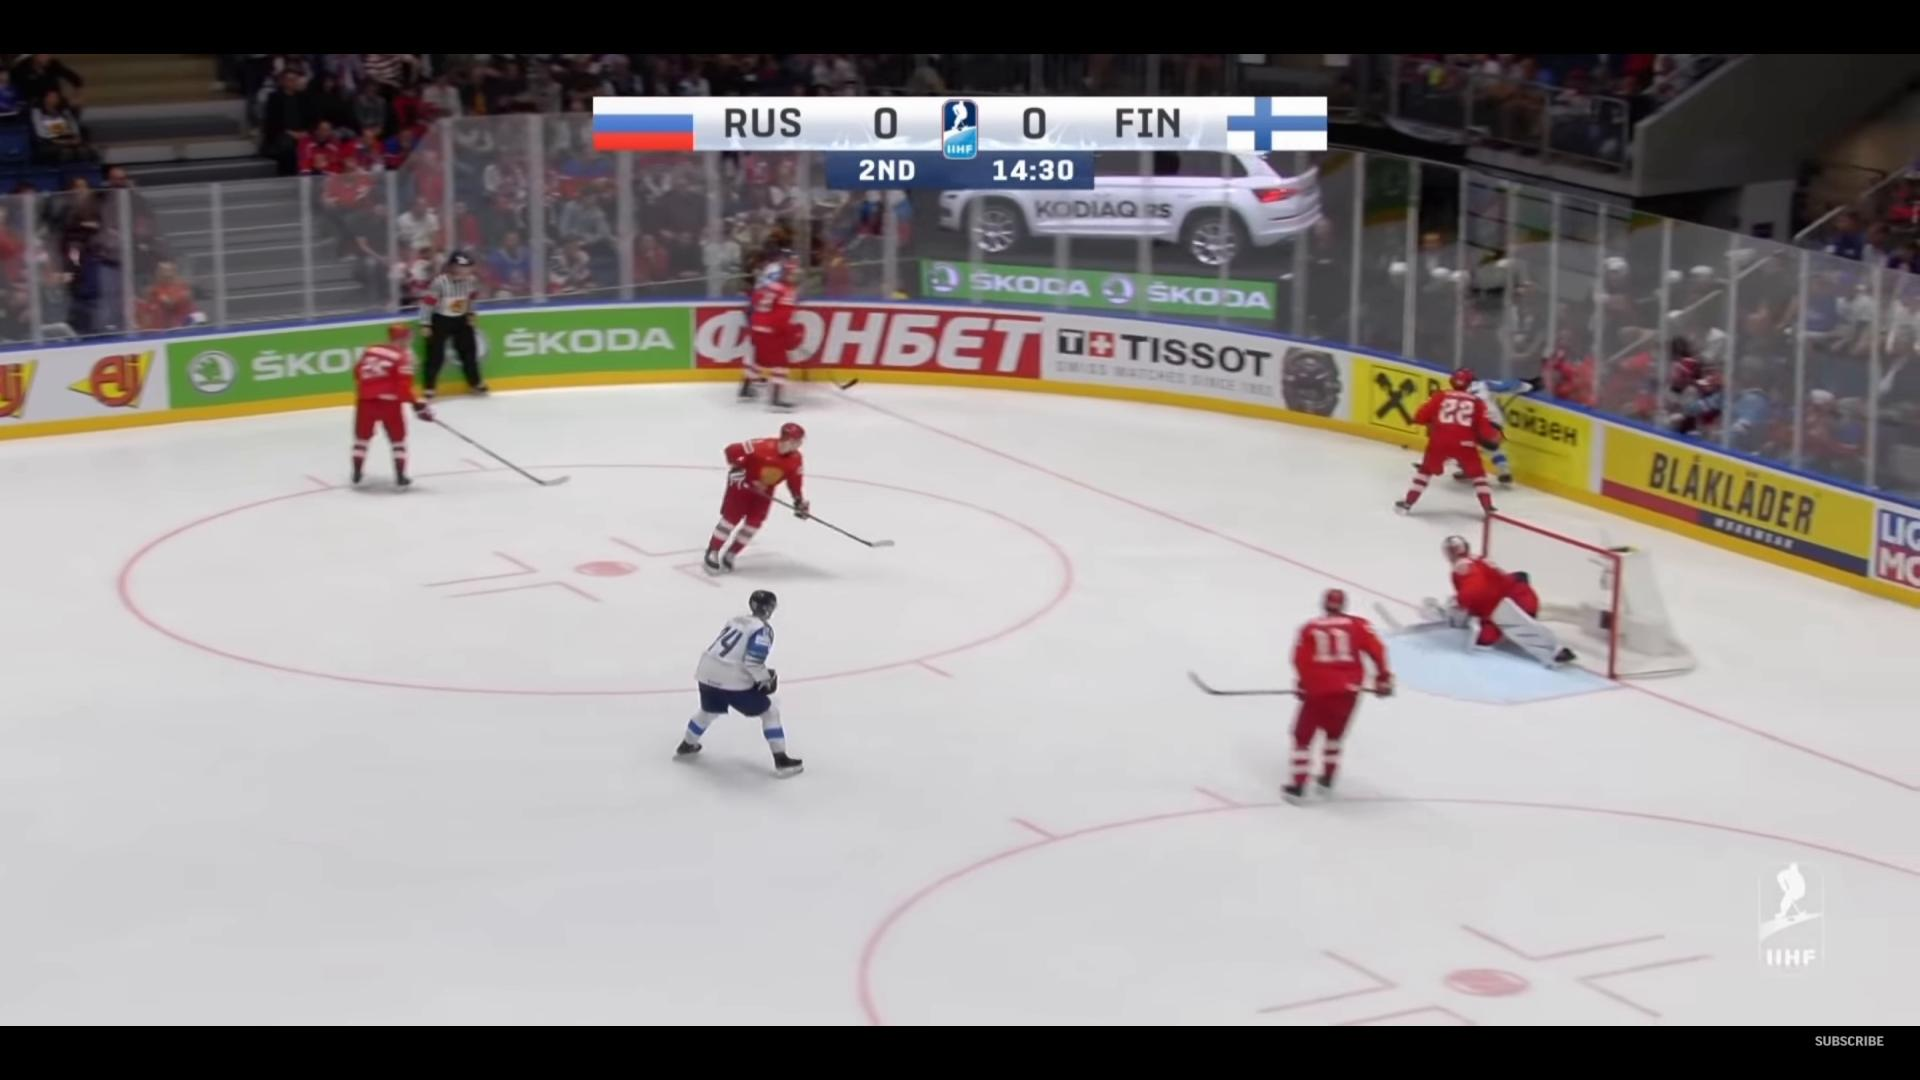puck: (1400, 443, 1408, 450)
